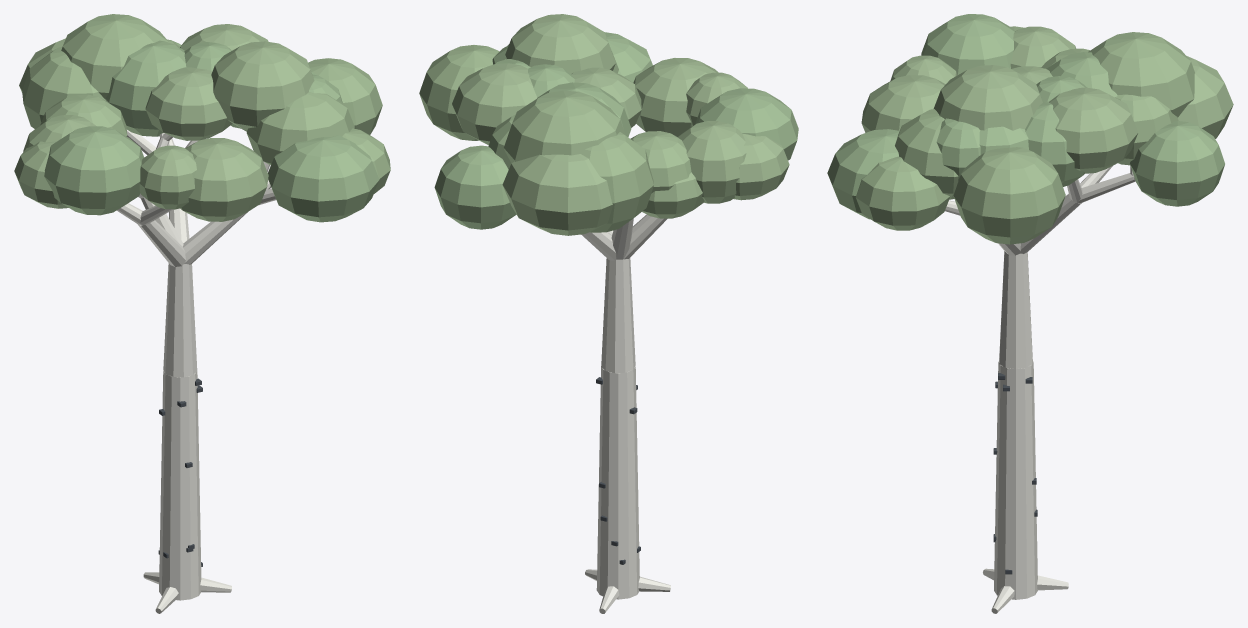
File: tree_birch.glb
The picture shows the model from 3 angles, left to right: view 1: azimuth 30°, elevation 25°; view 2: azimuth 150°, elevation 25°; view 3: azimuth 270°, elevation 25°; orthographic projection. The views are drawn at different scales.
Parts seen in each view (by area): view 1: tree; view 2: tree; view 3: tree.
Boxes of the visible parts, x1,y1,x2,y2 form: tree: (14, 14, 390, 613); tree: (419, 14, 798, 613); tree: (827, 14, 1233, 613).
Bounding box in the file's own units: 4.74 × 6.91 × 4.57.
